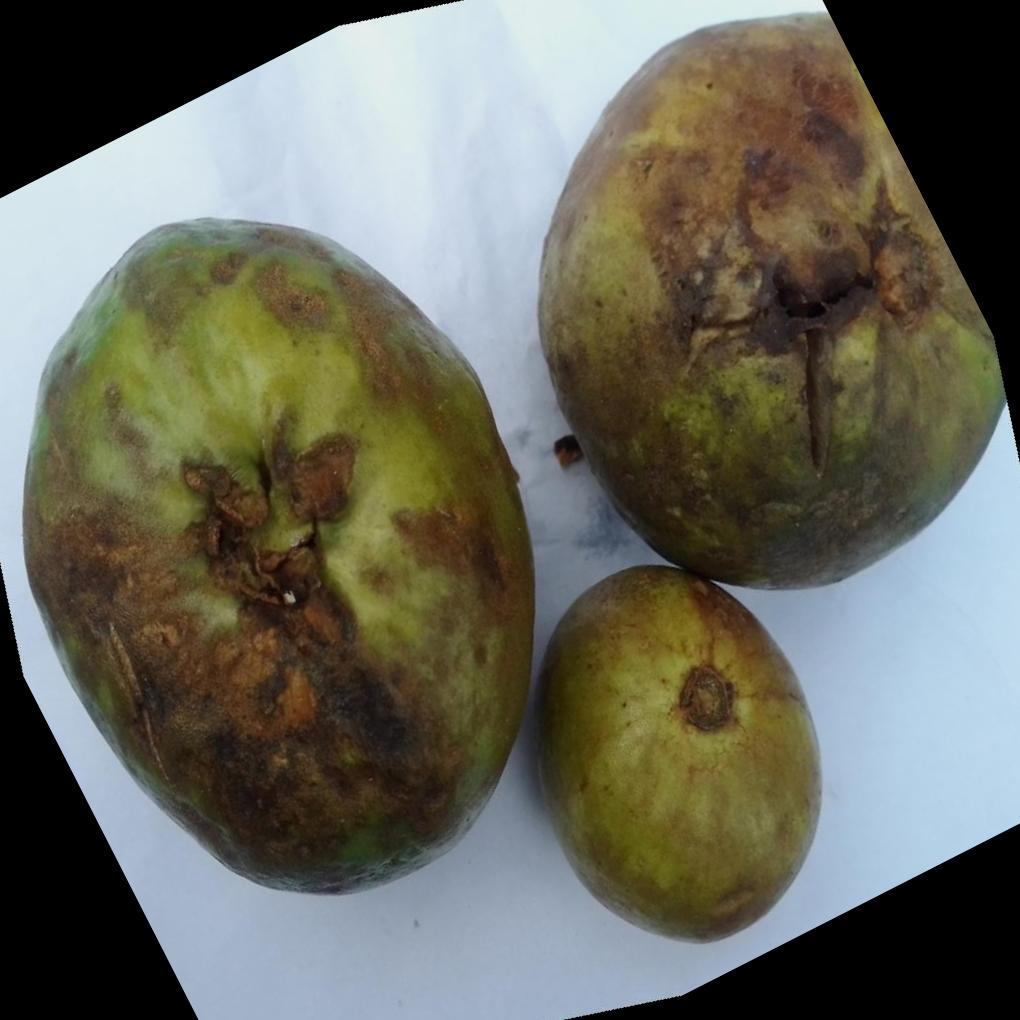FreshOrange: (531, 8, 1002, 946), (15, 216, 534, 897)
